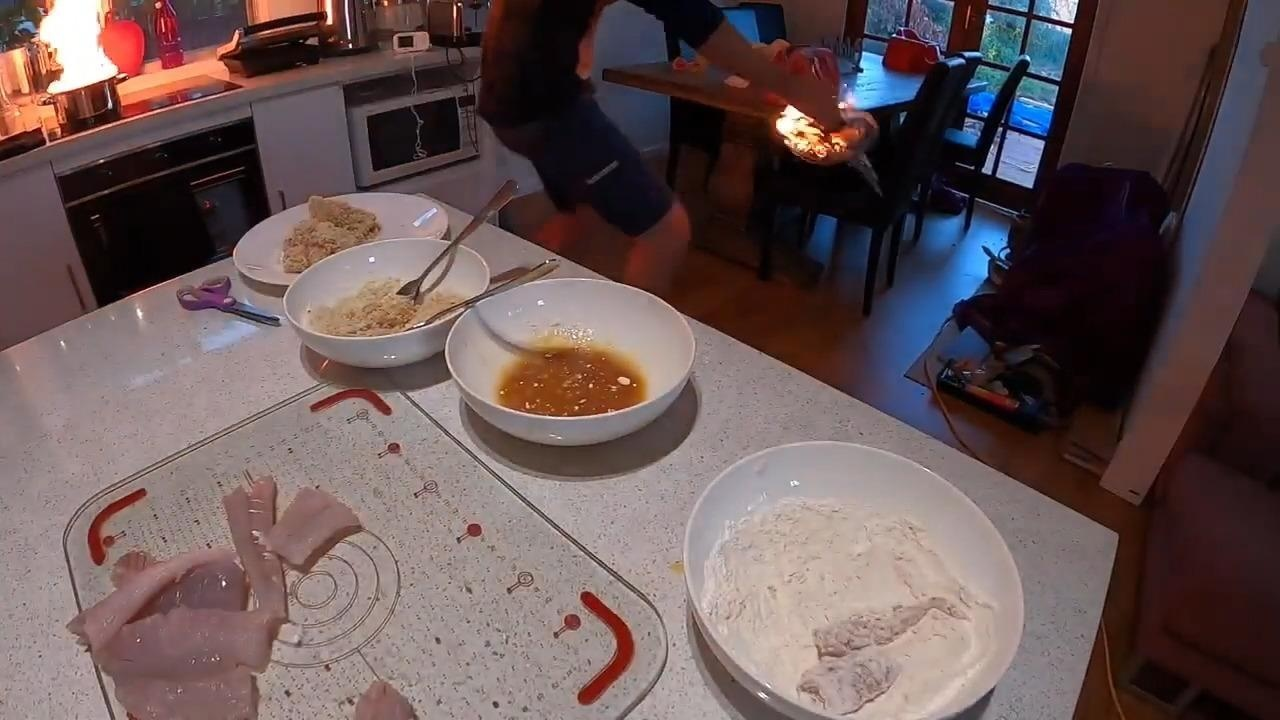fire: (20, 1, 141, 136)
